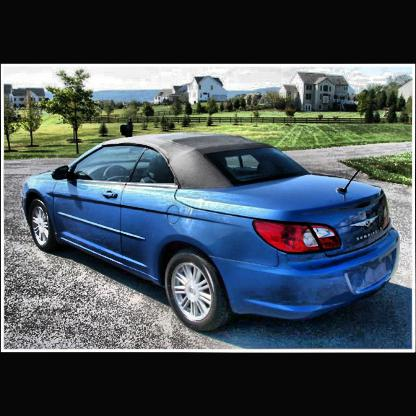Chrysler Sebring Convertible 2010: (22, 131, 403, 333)
